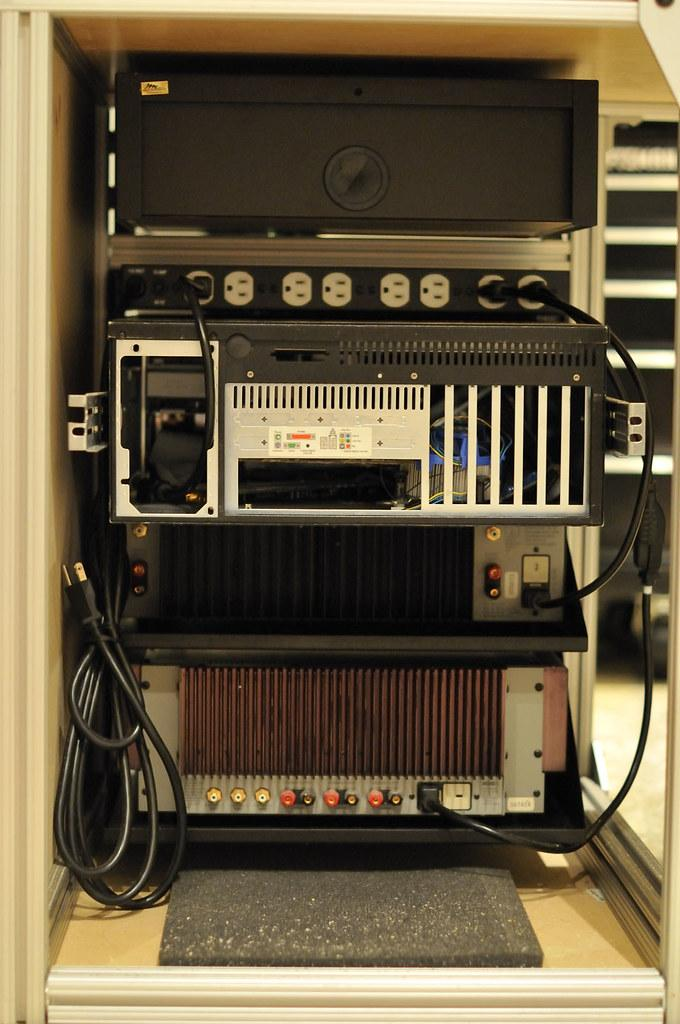computer: (64, 65, 616, 874), (112, 70, 600, 239), (132, 662, 570, 825)
